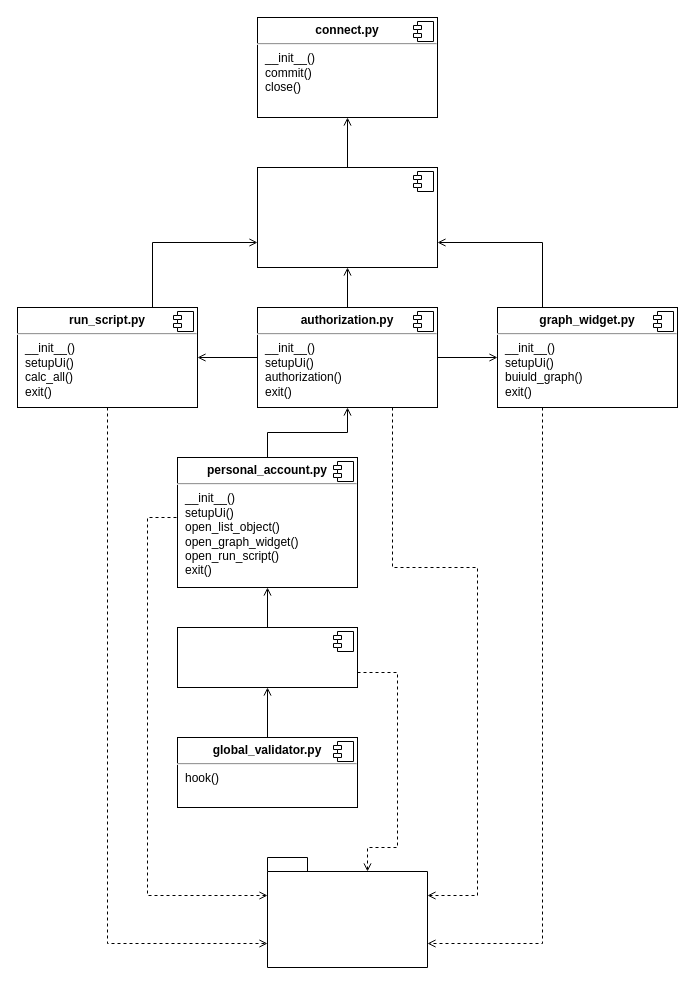
The diagram is 695 pixels wide and 985 high, and some of its shapes have lost their labels. Each missing label, with the centre of its shape:
main.py __name__ == "__main__": the point at 267,657
PyQt6 pyqt6-tools pyqtgraph pyserial mysql-connector-python: the point at 347,912
requests .py auth_check() get_parameters() get_object(): the point at 347,217
